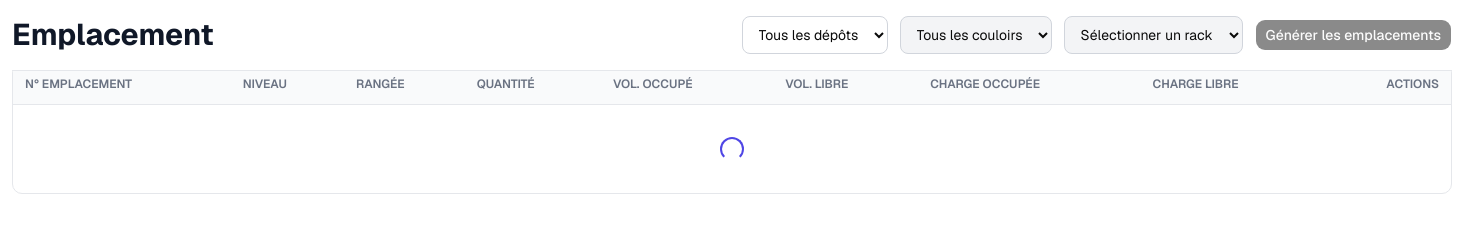
Test: renders emplacement list when rack is selected
This screenshot has width=1464, height=230.
Select "101 - Dépôt A" in the 1st dropdown at (815, 35), box [742,16,888,54]
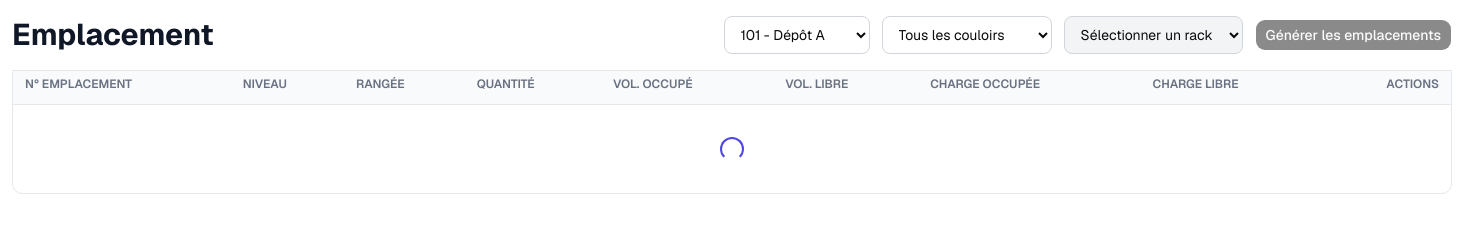
Select "C01 - Couloir Alpha" in the 2nd dropdown at (967, 35), box [882,16,1052,54]
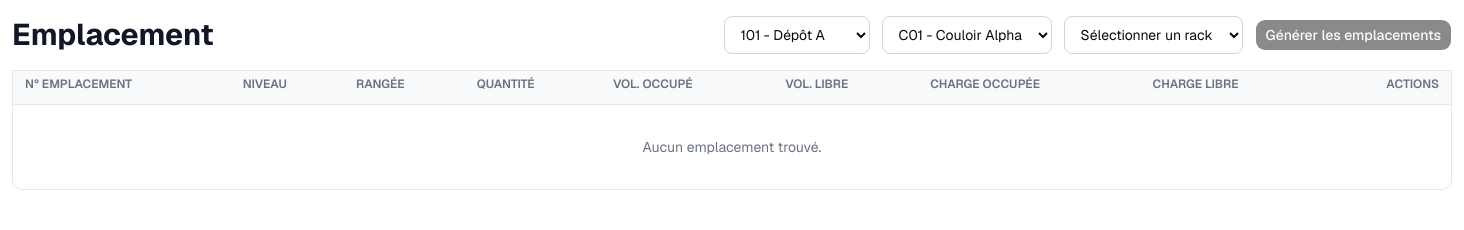
Select "R01" in the 3rd dropdown at (1153, 35), box [1064,16,1243,54]
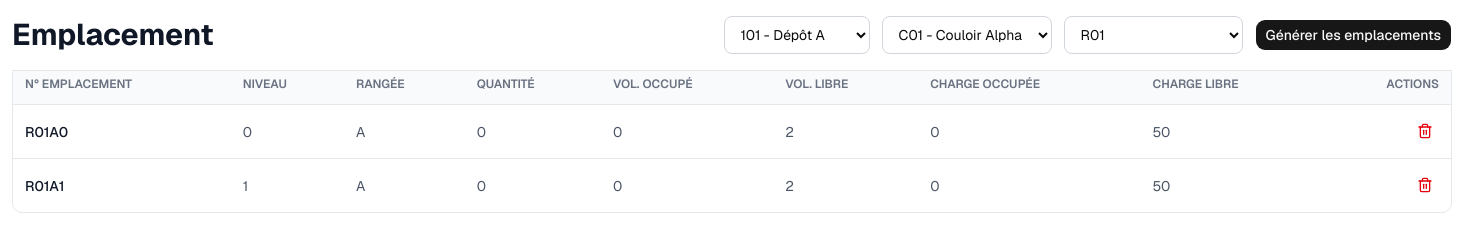
Result: the text "R01A0" is shown at [13,104,231,158]
Result: the text "R01A1" is shown at [13,158,231,212]
